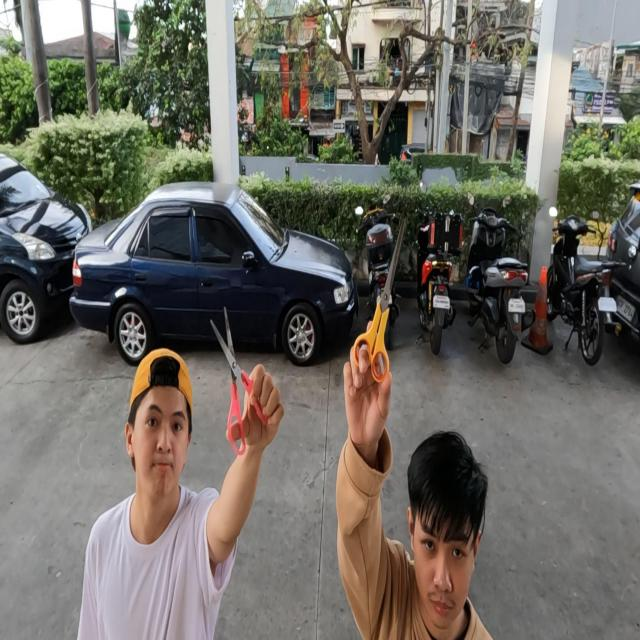scissor: (352, 217, 406, 385), (210, 306, 268, 456)
